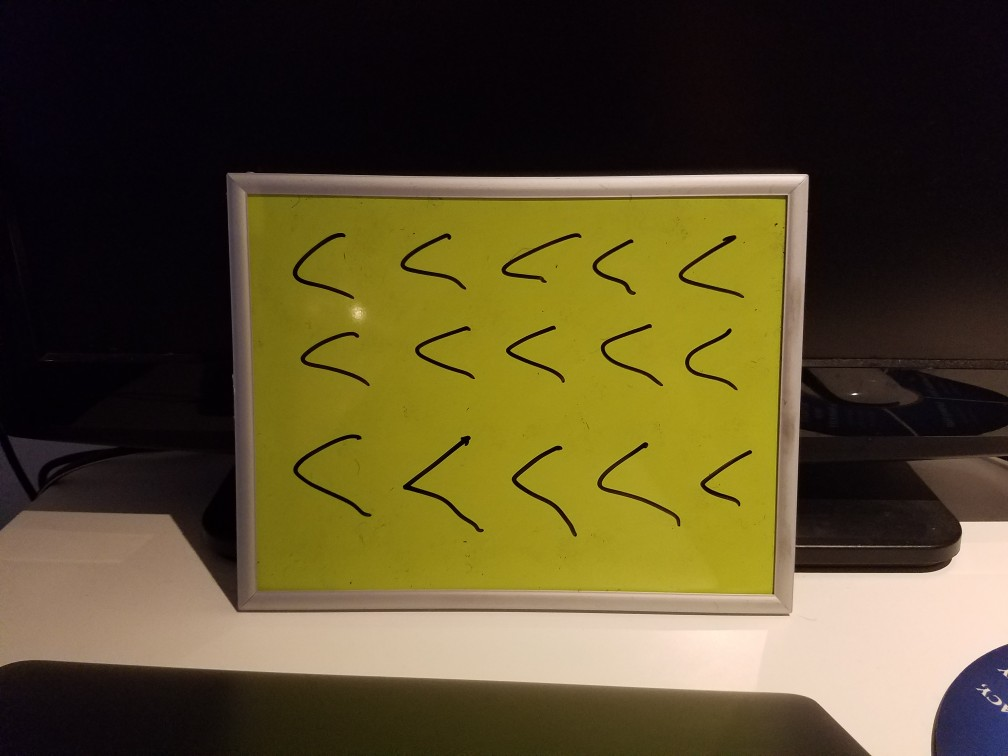<: (269, 417, 388, 530), (392, 420, 489, 547), (585, 421, 686, 542), (494, 426, 587, 554), (387, 310, 487, 392), (295, 318, 387, 405), (688, 430, 764, 533), (679, 224, 759, 309), (680, 313, 757, 401), (491, 312, 575, 391), (281, 227, 362, 305), (497, 230, 585, 300), (391, 222, 469, 299), (593, 311, 665, 392), (587, 227, 654, 311)
